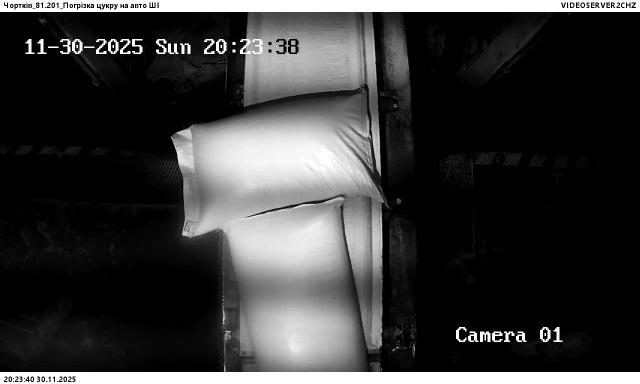bag: (173, 86, 388, 236), (224, 198, 371, 372)
